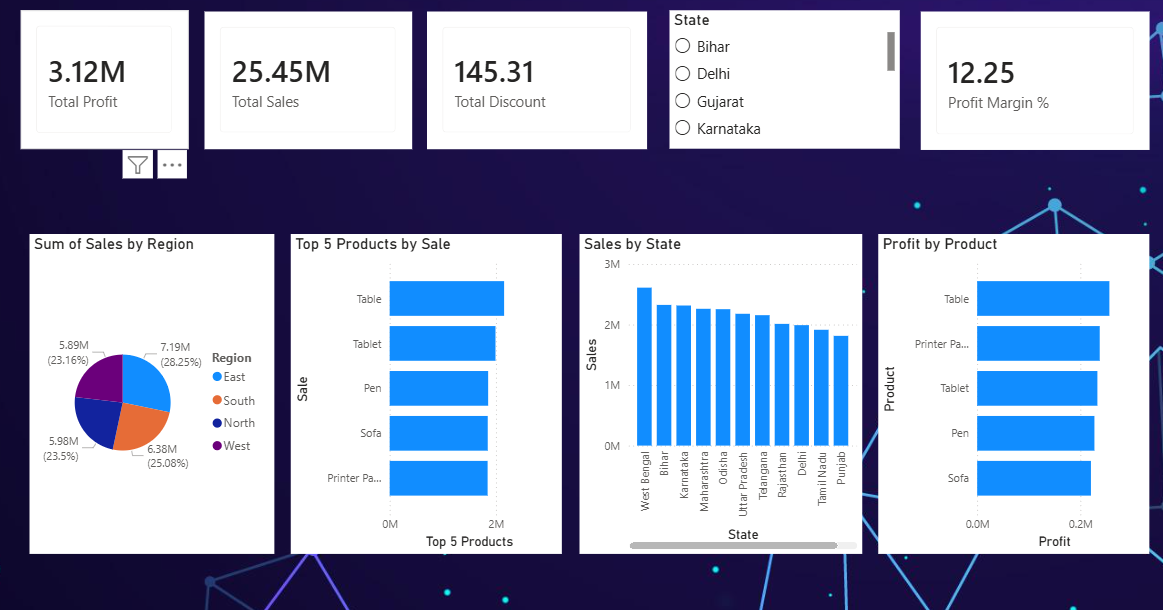

The page's visual inventory and layout, read from the dashboard file:
{"tool":"powerbi","page":{"name":"Page 1","canvas":[1280,720],"ordinal":0},"visuals":[{"type":"cardVisual","fields":{"Data":["Sum(ABC_Retail_Sales_Dataset_1000_Rows.Profit)"]},"box":[26.1,23.3,183.9,152.3],"z":0},{"type":"cardVisual","fields":{"Data":["Sum(ABC_Retail_Sales_Dataset_1000_Rows.Sales)"]},"box":[227.8,24.7,227.8,150.9],"z":1000},{"type":"cardVisual","fields":{"Data":["Sum(ABC_Retail_Sales_Dataset_1000_Rows.Discount)"]},"box":[472,24.7,241.5,150.9],"z":2000},{"type":"clusteredColumnChart","fields":{"Category":["ABC_Retail_Sales_Dataset_1000_Rows.State"],"Y":["Sum(ABC_Retail_Sales_Dataset_1000_Rows.Sales)"]},"box":[639.5,269,310.1,351.3],"z":3000},{"type":"pieChart","fields":{"Y":["Sum(ABC_Retail_Sales_Dataset_1000_Rows.Sales)"],"Category":["ABC_Retail_Sales_Dataset_1000_Rows.Region"]},"box":[35.7,269,269,351.3],"z":4000},{"type":"clusteredBarChart","fields":{"Y":["Sum(ABC_Retail_Sales_Dataset_1000_Rows.Sales)"],"Category":["ABC_Retail_Sales_Dataset_1000_Rows.Product"]},"box":[322.5,269,297.8,351.3],"z":5000},{"type":"listSlicer","fields":{"Values":["ABC_Retail_Sales_Dataset_1000_Rows.State"]},"box":[738.3,23.3,252.5,152.3],"z":5001},{"type":"cardVisual","fields":{"Data":["ABC_Retail_Sales_Dataset_1000_Rows.Profit Margin %"]},"box":[1014.1,24.7,251.1,152.3],"z":5002},{"type":"clusteredBarChart","fields":{"Category":["ABC_Retail_Sales_Dataset_1000_Rows.Product"],"Y":["Sum(ABC_Retail_Sales_Dataset_1000_Rows.Profit)"]},"box":[967.4,269,297.8,351.3],"z":5003}]}

Visuals, with their boxes on the page's 1280x720 design canvas (x1, y1, x2, y2). These are canvas units, not pixel positions in the 1163x610 screenshot, which may show the page scaled, cropped or inside an application window:
cardVisual - Sum(ABC_Retail_Sales_Dataset_1000_Rows.Profit): (26, 23, 210, 176)
cardVisual - Sum(ABC_Retail_Sales_Dataset_1000_Rows.Sales): (228, 25, 456, 176)
cardVisual - Sum(ABC_Retail_Sales_Dataset_1000_Rows.Discount): (472, 25, 714, 176)
clusteredColumnChart - ABC_Retail_Sales_Dataset_1000_Rows.State x Sum(ABC_Retail_Sales_Dataset_1000_Rows.Sales): (640, 269, 950, 620)
pieChart - Sum(ABC_Retail_Sales_Dataset_1000_Rows.Sales) x ABC_Retail_Sales_Dataset_1000_Rows.Region: (36, 269, 305, 620)
clusteredBarChart - Sum(ABC_Retail_Sales_Dataset_1000_Rows.Sales) x ABC_Retail_Sales_Dataset_1000_Rows.Product: (322, 269, 620, 620)
listSlicer - ABC_Retail_Sales_Dataset_1000_Rows.State: (738, 23, 991, 176)
cardVisual - ABC_Retail_Sales_Dataset_1000_Rows.Profit Margin %: (1014, 25, 1265, 177)
clusteredBarChart - ABC_Retail_Sales_Dataset_1000_Rows.Product x Sum(ABC_Retail_Sales_Dataset_1000_Rows.Profit): (967, 269, 1265, 620)
